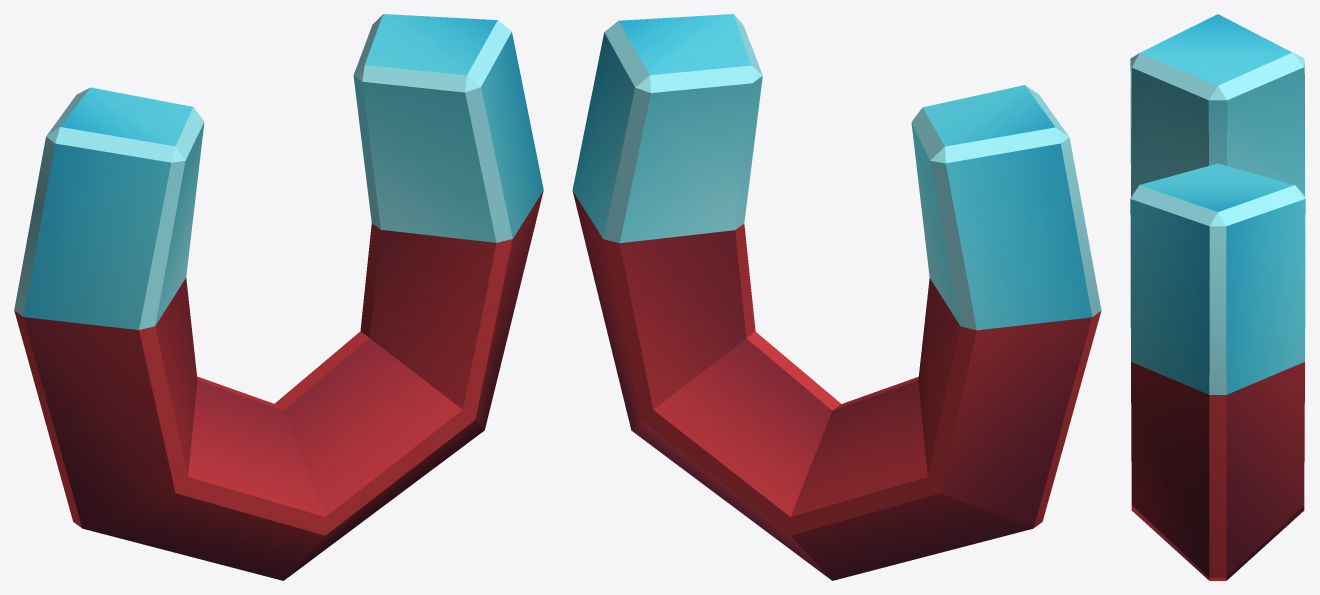
Rendered from magnetPowerUp.fbx.
3 renders of one model, left to right at view 1: azimuth 30°, elevation 25°; view 2: azimuth 150°, elevation 25°; view 3: azimuth 270°, elevation 25°, orthographic. The views are drawn at different scales.
Parts seen in each view (by area): view 1: pTorus1; view 2: pTorus1; view 3: pTorus1.
Boxes of the visible parts, x1,y1,x2,y2 form: pTorus1: (14,14,543,580); pTorus1: (572,14,1101,580); pTorus1: (1130,14,1305,580).
Size of the model in its own units: 37.78 by 34.97 by 11.86.
